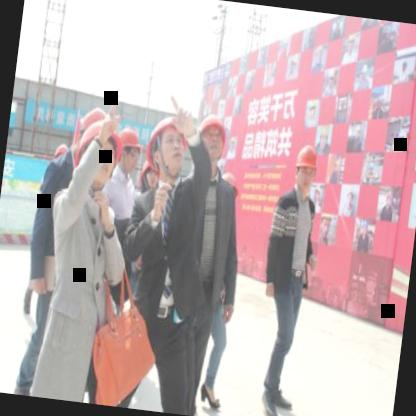helmet: (70, 119, 124, 198), (142, 108, 194, 180), (186, 106, 235, 174), (115, 122, 146, 186), (291, 138, 324, 193), (138, 154, 164, 192)
